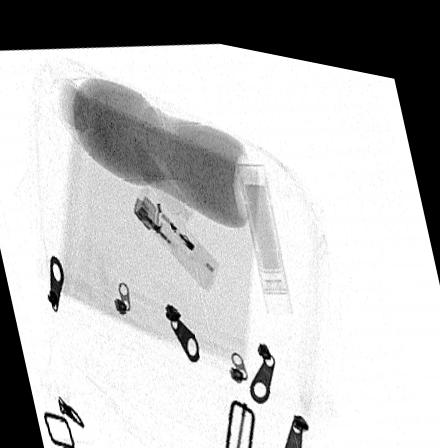Lighter: (131, 180, 219, 283)
